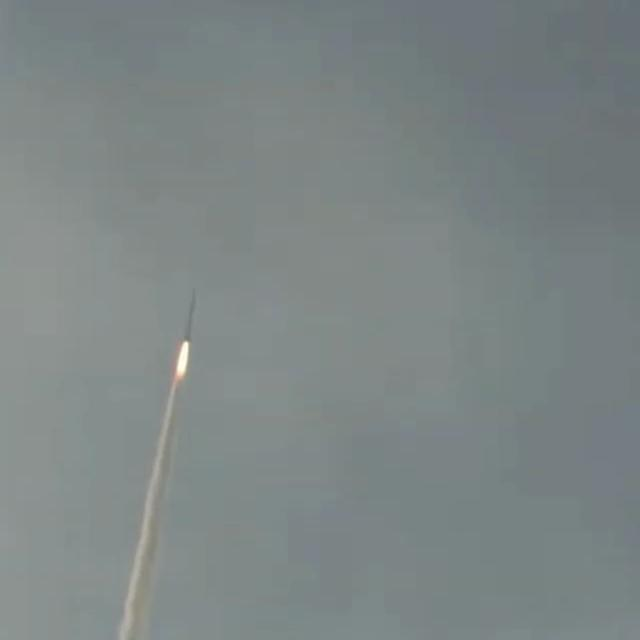smoke_trail_with_rocket: (118, 290, 196, 640)
